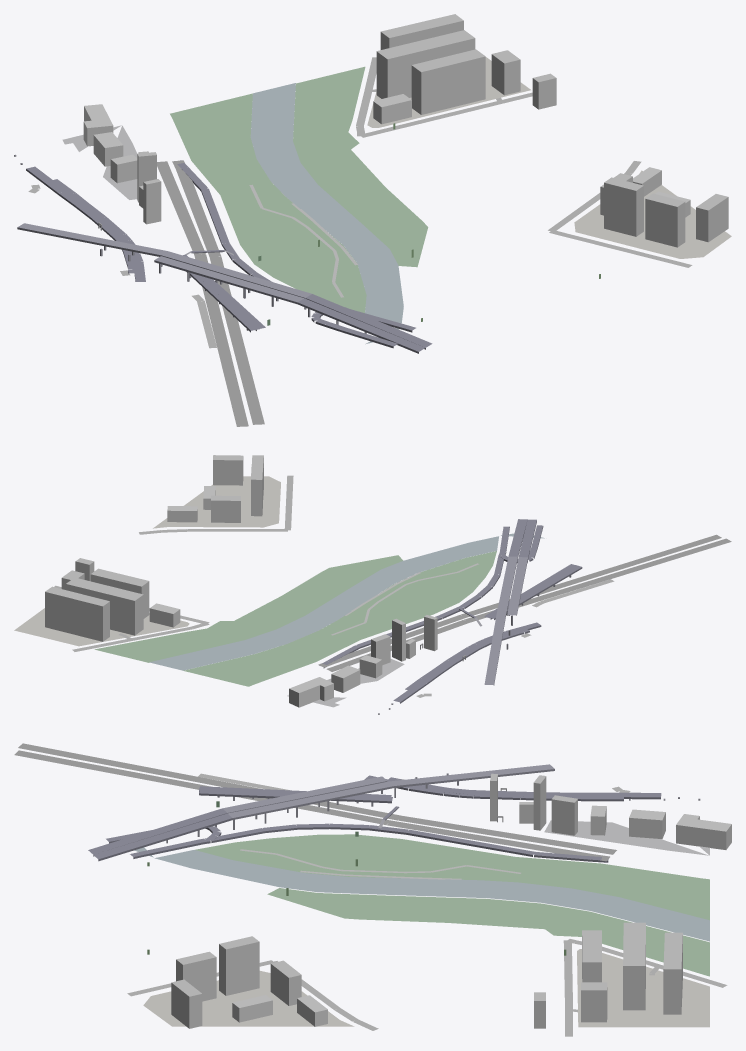
The picture shows the model from 3 angles, top to bottom: view 1: azimuth 30°, elevation 25°; view 2: azimuth 150°, elevation 25°; view 3: azimuth 270°, elevation 25°; orthographic projection. The views are drawn at different scales.
Bounding box in the file's own units: 594 × 47.4 × 620.
